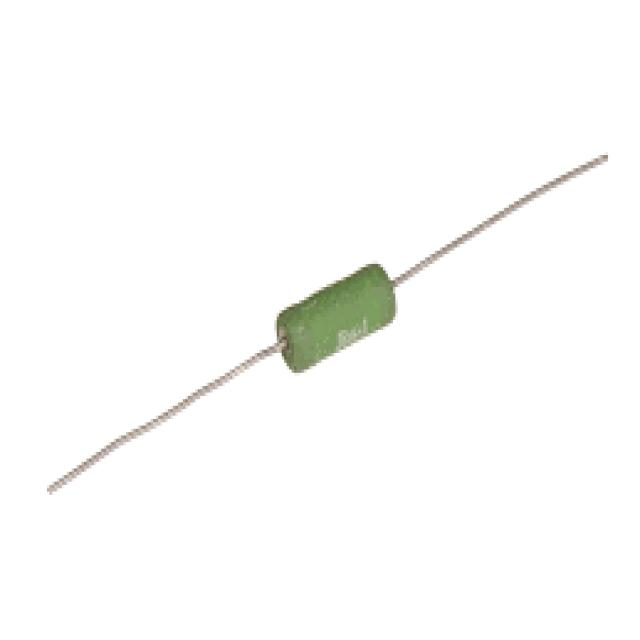Resistor: (273, 261, 399, 375)
